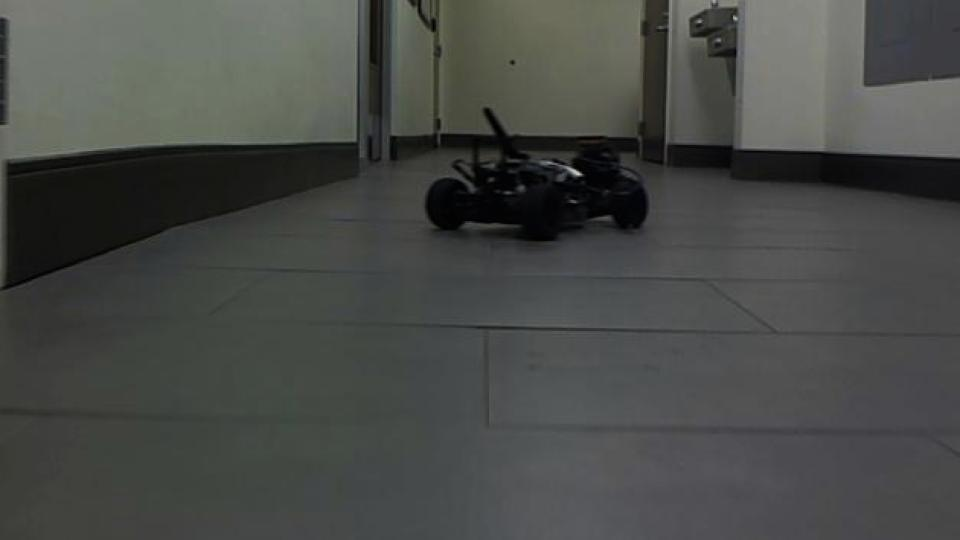car: (424, 103, 652, 242)
